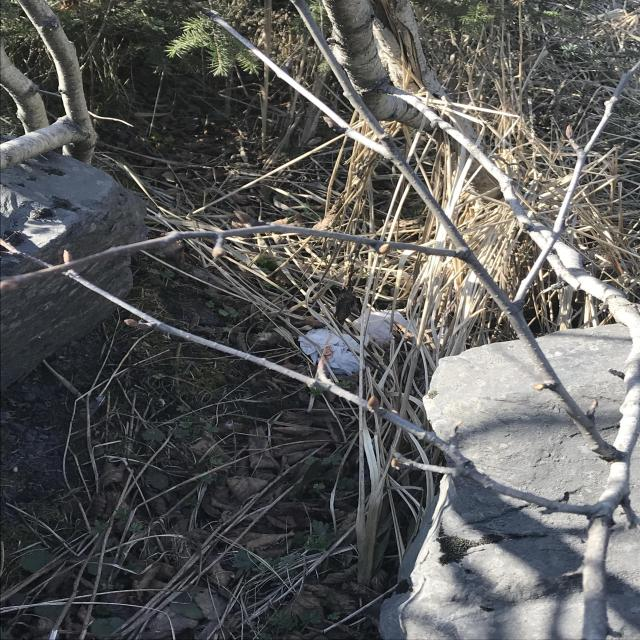litter: (287, 300, 424, 379)
